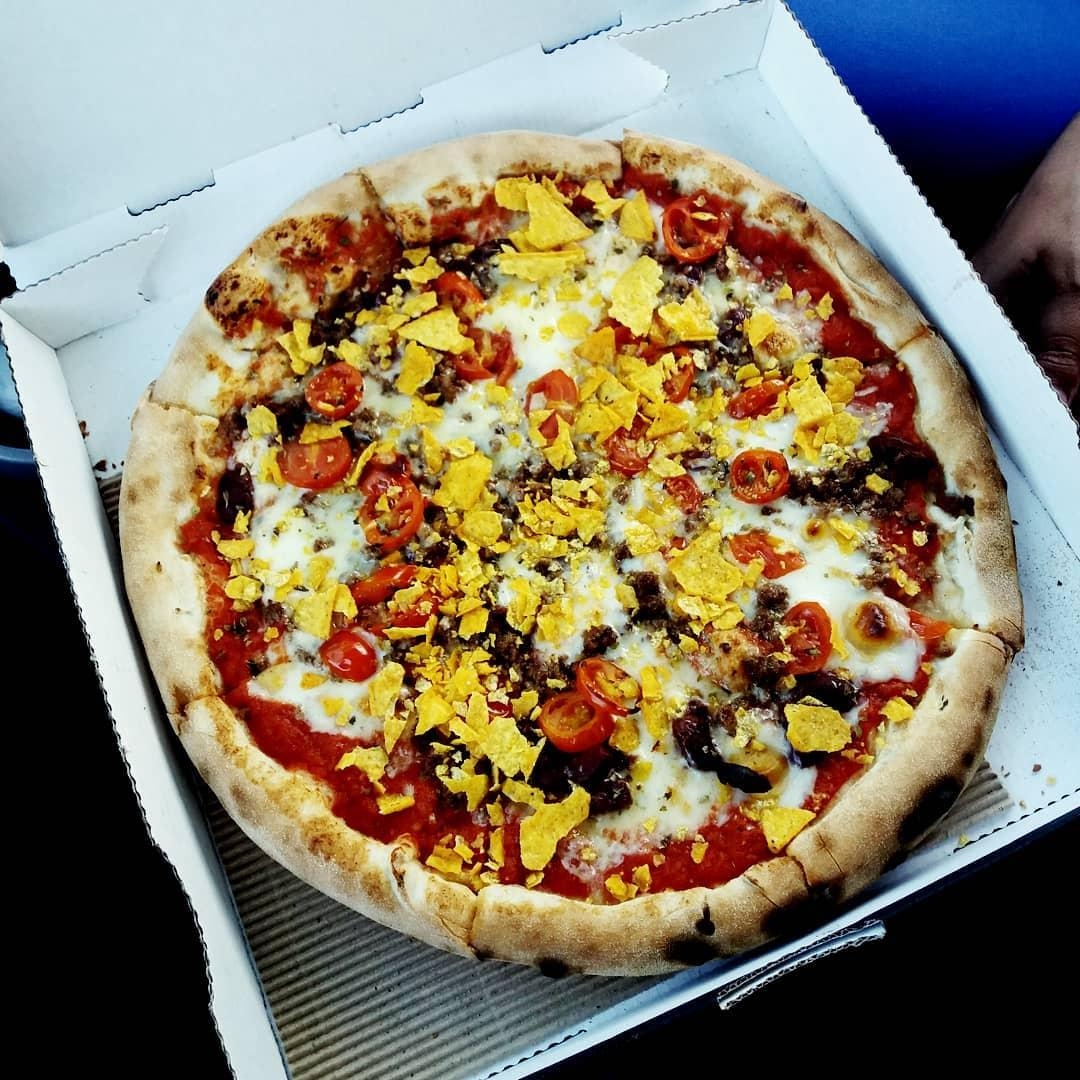Pizza: (118, 135, 1028, 978)
Tomatoes: (363, 454, 421, 548), (541, 690, 615, 750), (664, 197, 729, 260), (578, 657, 643, 714), (776, 602, 828, 671), (727, 532, 804, 577), (526, 374, 579, 437), (281, 435, 346, 486), (459, 326, 515, 378), (320, 631, 378, 681), (307, 365, 363, 416), (730, 449, 787, 499), (437, 274, 484, 326), (349, 565, 416, 600), (651, 349, 694, 400), (727, 379, 786, 416), (602, 423, 646, 470), (395, 591, 436, 628), (664, 478, 700, 513)
